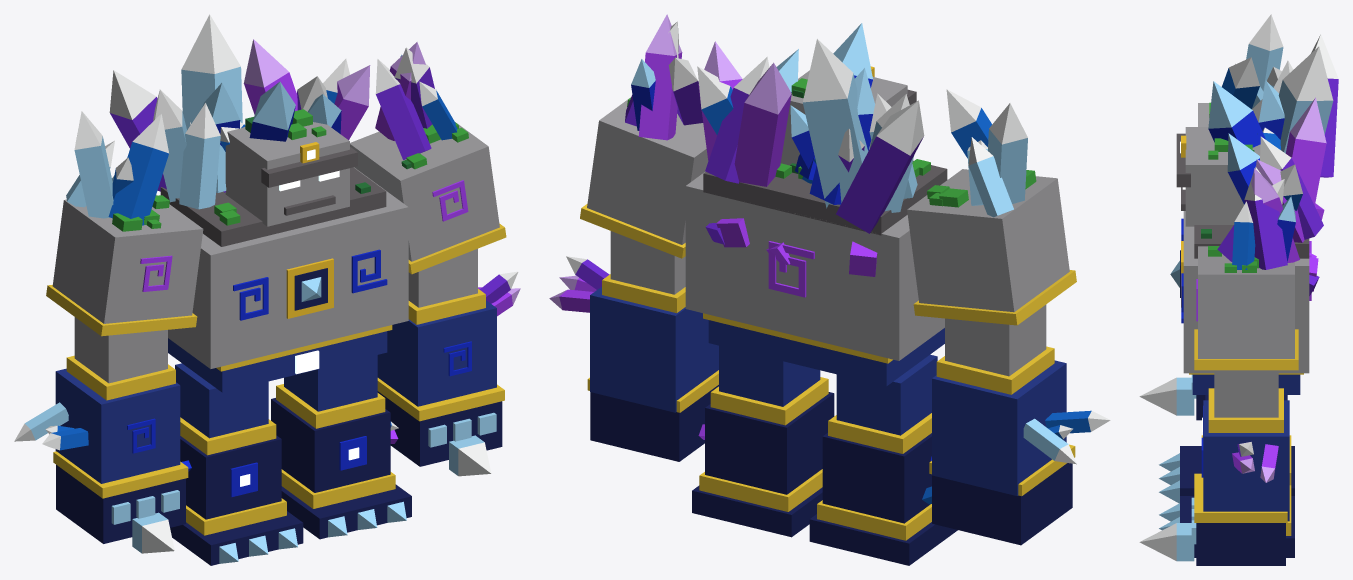
File: CrystalGolem.fbx
3 renders of one model, left to right at view 1: azimuth 30°, elevation 25°; view 2: azimuth 150°, elevation 25°; view 3: azimuth 270°, elevation 25°, orthographic. The views are drawn at different scales.
Parts seen in each view (by area): view 1: Torso_StoneGrey, LeftArm_StoneGrey, RightArm_StoneGrey, RightLeg_ReallyDarkBlue, Torso_LightBlue, LeftArm_DarkBlue, RightArm_DarkBlue, LeftLeg_ReallyDarkBlue, Head_StoneGrey, LeftArm_Yellow, Torso_White, LeftArm_LightBlue (+32 smaller); view 2: Torso_StoneGrey, LeftArm_StoneGrey, RightArm_StoneGrey, RightLeg_ReallyDarkBlue, LeftArm_DarkBlue, RightArm_DarkBlue, LeftLeg_ReallyDarkBlue, Torso_LightBlue, Torso_BrightViolet, LeftArm_ReallyDarkBlue, Torso_RoyalPurple, Torso_White (+22 smaller); view 3: RightArm_StoneGrey, RightArm_DarkBlue, RightArm_Yellow, Head_StoneGrey, Torso_LightBlue, RightArm_ReallyDarkBlue, Torso_StoneGrey, Torso_White, LeftArm_White, RightArm_RoyalPurple, Torso_BrightViolet, Torso_Cobalt (+21 smaller).
Boxes of the visible parts, bbox=[...] form: Torso_StoneGrey: bbox=[168, 167, 408, 368]; LeftArm_StoneGrey: bbox=[52, 194, 203, 383]; RightArm_StoneGrey: bbox=[350, 122, 499, 307]; RightLeg_ReallyDarkBlue: bbox=[271, 398, 411, 539]; Torso_LightBlue: bbox=[163, 66, 341, 301]; LeftArm_DarkBlue: bbox=[55, 368, 180, 483]; RightArm_DarkBlue: bbox=[377, 300, 496, 406]; LeftLeg_ReallyDarkBlue: bbox=[170, 435, 303, 565]; Head_StoneGrey: bbox=[225, 110, 349, 226]; LeftArm_Yellow: bbox=[46, 285, 197, 498]; Torso_White: bbox=[109, 14, 349, 142]; LeftArm_LightBlue: bbox=[25, 136, 179, 553]; Torso_StoneGrey: bbox=[685, 171, 944, 360]; LeftArm_StoneGrey: bbox=[907, 169, 1069, 376]; RightArm_StoneGrey: bbox=[587, 97, 708, 294]; RightLeg_ReallyDarkBlue: bbox=[692, 392, 834, 537]; LeftArm_DarkBlue: bbox=[932, 360, 1066, 495]; RightArm_DarkBlue: bbox=[590, 286, 718, 412]; LeftLeg_ReallyDarkBlue: bbox=[809, 433, 957, 565]; Torso_LightBlue: bbox=[776, 23, 917, 212]; Torso_BrightViolet: bbox=[698, 79, 877, 297]; LeftArm_ReallyDarkBlue: bbox=[932, 463, 1072, 545]; Torso_RoyalPurple: bbox=[705, 88, 923, 244]; Torso_White: bbox=[697, 39, 924, 162]; RightArm_StoneGrey: bbox=[1198, 246, 1294, 417]; RightArm_DarkBlue: bbox=[1203, 400, 1289, 521]; RightArm_Yellow: bbox=[1194, 329, 1298, 522]; Head_StoneGrey: bbox=[1185, 127, 1260, 226]; Torso_LightBlue: bbox=[1170, 80, 1333, 287]; RightArm_ReallyDarkBlue: bbox=[1196, 523, 1285, 565]; Torso_StoneGrey: bbox=[1183, 211, 1309, 373]; Torso_White: bbox=[1252, 34, 1338, 195]; LeftArm_White: bbox=[1139, 14, 1283, 415]; RightArm_RoyalPurple: bbox=[1217, 199, 1287, 456]; Torso_BrightViolet: bbox=[1282, 132, 1326, 300]; Torso_Cobalt: bbox=[1181, 111, 1284, 323].
Size of the model in its own units: 30.1 by 27.84 by 11.12.
